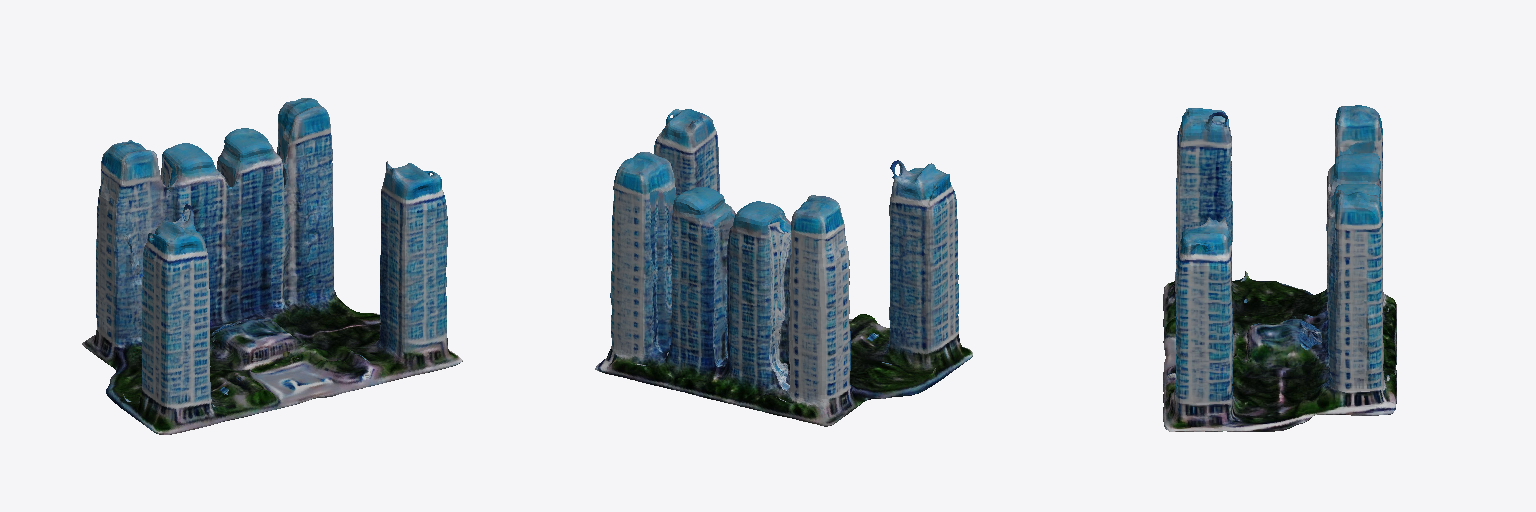
3 views of the same model, side by side, from view 1: azimuth 30°, elevation 25°; view 2: azimuth 150°, elevation 25°; view 3: azimuth 270°, elevation 25° (orthographic).
Visible parts, largest first — view 1: mesh; view 2: mesh; view 3: mesh.
Part boxes in pixels (bbox=[...]): mesh: bbox=[82, 98, 462, 434]; mesh: bbox=[595, 109, 972, 426]; mesh: bbox=[1163, 105, 1396, 431].
Size of the model in its own units: 0.9985 by 0.6481 by 0.6592.
Materials: 1 (1 with a texture image).